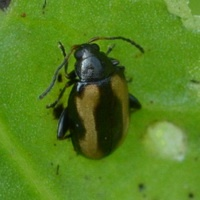insect: (39, 36, 143, 158)
